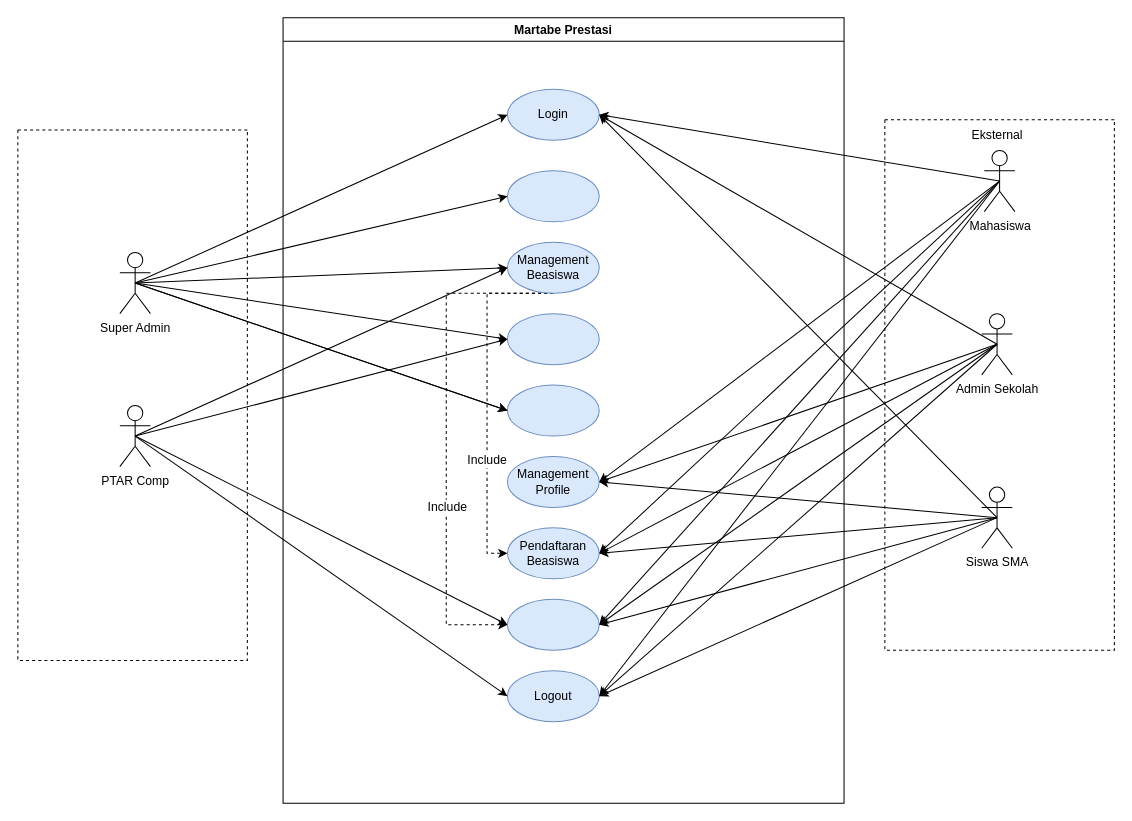
Some shapes in this 1132 by 821 pixel diagram are drawn without their labels. The shapes that lost their labels are listed below. From the top down, each one's centre as x and y in pixels, then its label:
At (552,196): "Management User & Role".
At (552,339): "Report Management".
At (132,394): "Internal".
At (552,410): "Log Management".
At (552,624): "Notifikasi".
